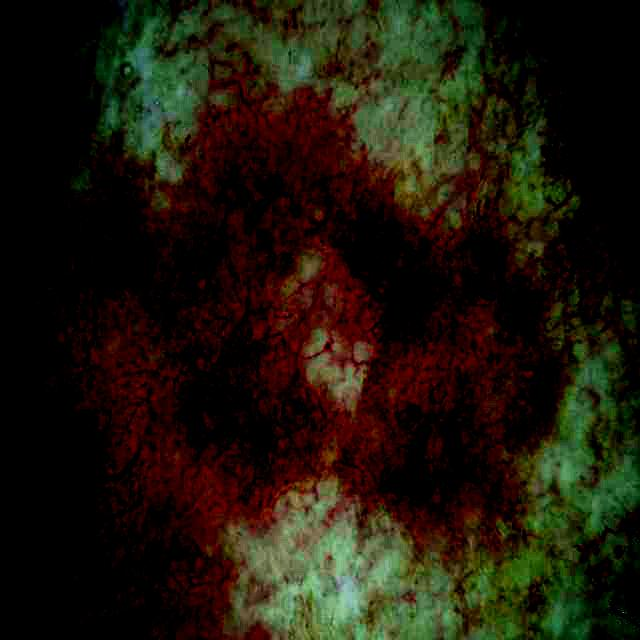AKIEC: (48, 102, 557, 506)
